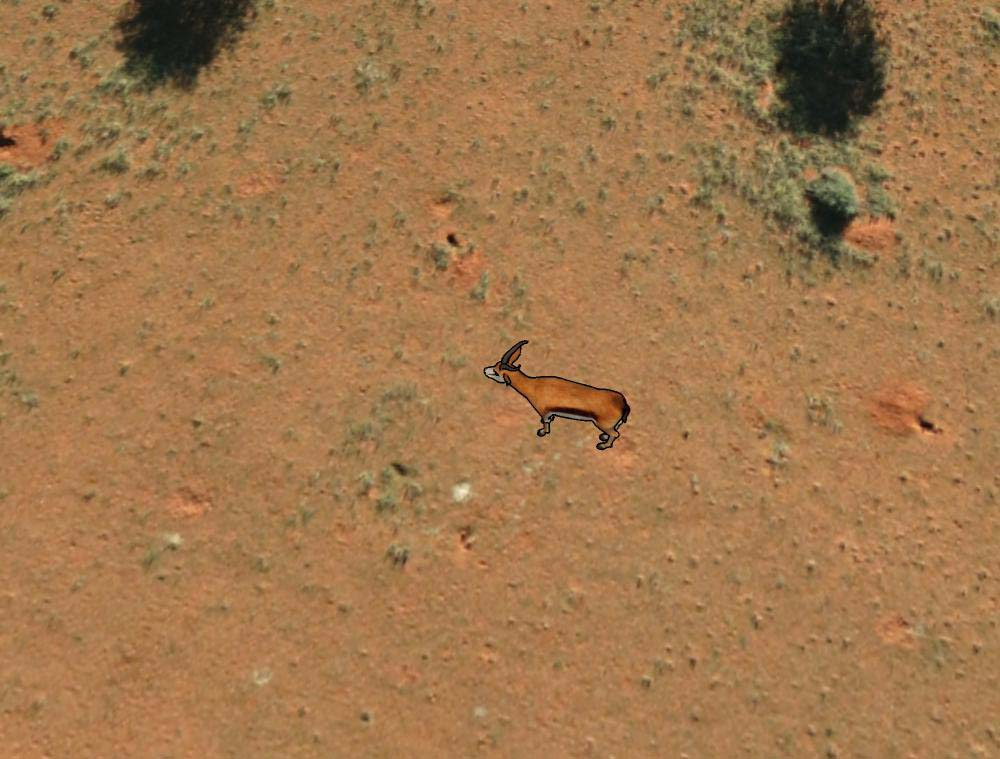springbok: (483, 339, 633, 455)
